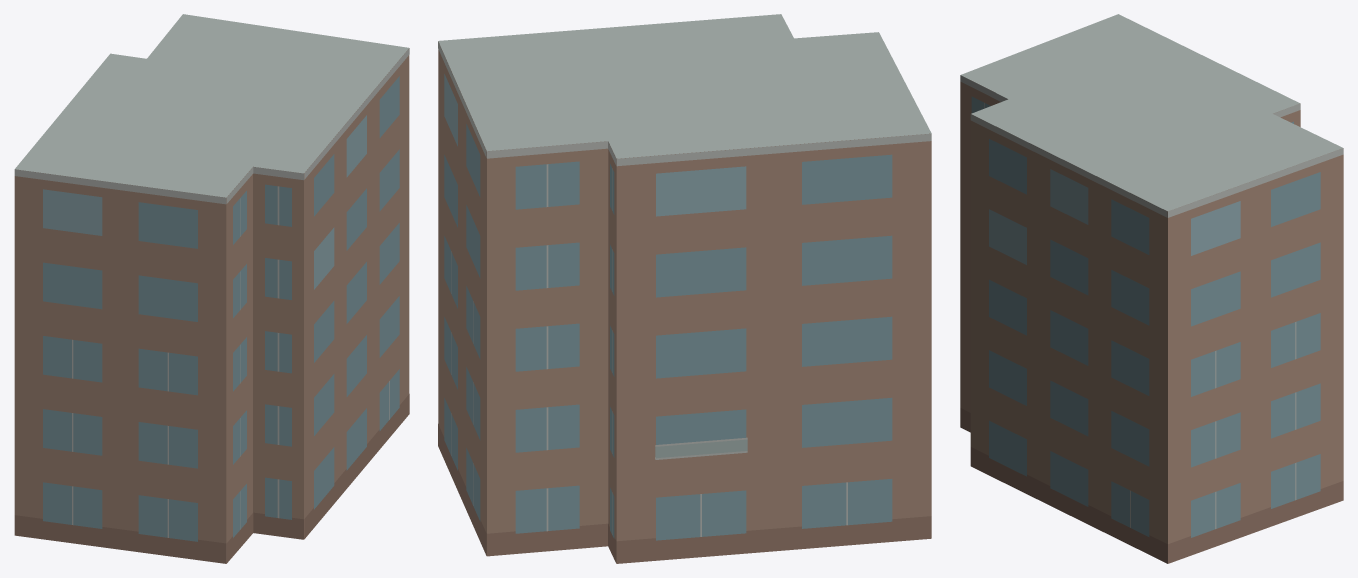
The model's file is survey-upis-32774138.glb.
3 renders of one model, left to right at view 1: azimuth 30°, elevation 25°; view 2: azimuth 150°, elevation 25°; view 3: azimuth 270°, elevation 25°, orthographic. The views are drawn at different scales.
Visible parts, largest first — view 1: survey-upis-32774138.tmp; view 2: survey-upis-32774138.tmp; view 3: survey-upis-32774138.tmp.
Boxes of the visible parts, box(x1,y1,x2,y2) form: survey-upis-32774138.tmp: box(14, 14, 409, 563); survey-upis-32774138.tmp: box(438, 14, 931, 563); survey-upis-32774138.tmp: box(960, 14, 1343, 563).
Size of the model in its own units: 15.87 by 13.2 by 13.01.
